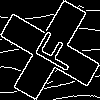F: (25, 25, 80, 74)
